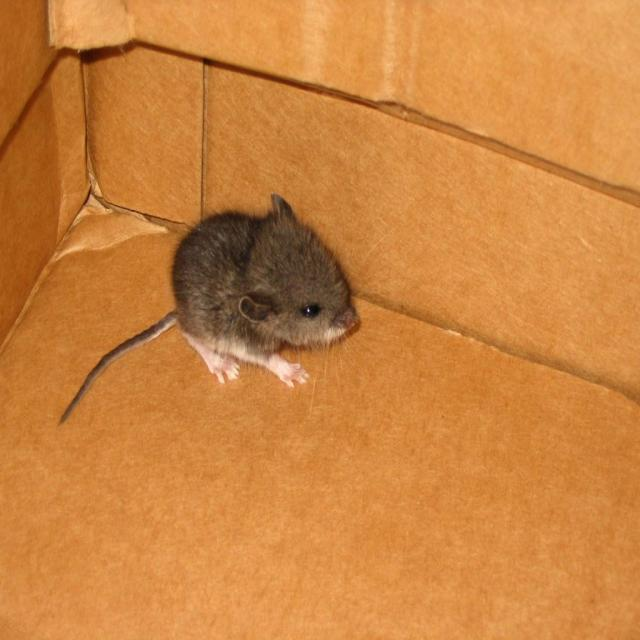rat: (56, 192, 396, 428)
